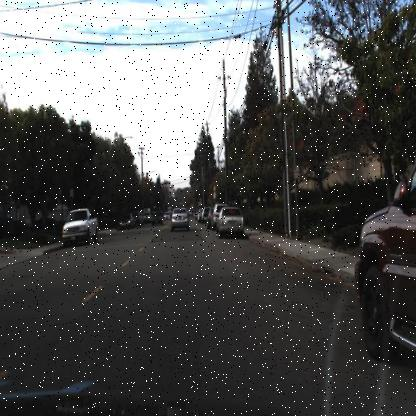car: (354, 151, 416, 377), (60, 204, 101, 252), (60, 206, 100, 245), (213, 203, 246, 239), (216, 204, 246, 238), (170, 204, 191, 233), (170, 205, 190, 232), (116, 207, 133, 235), (210, 200, 220, 236), (150, 206, 165, 228), (163, 206, 171, 222)
